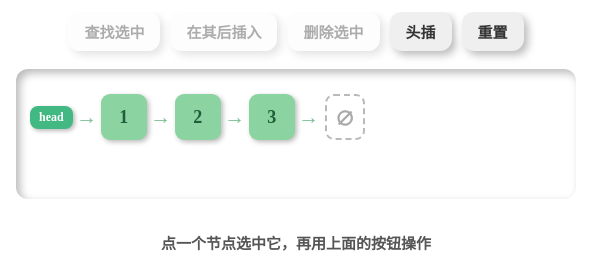
Test: LinkViz › TC-VIZ-LINKVIZ-03 insertAfter 增节点、新值落选中后
The width and height of the screenshot is (593, 269).
Click the button "2": (198,117) [175,94,221,140]
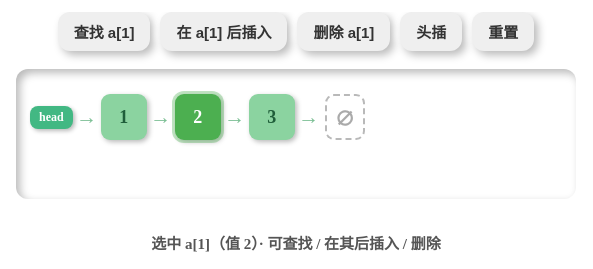
Click the button "在 a[1] 后插入": (224,32) [160,12,288,51]
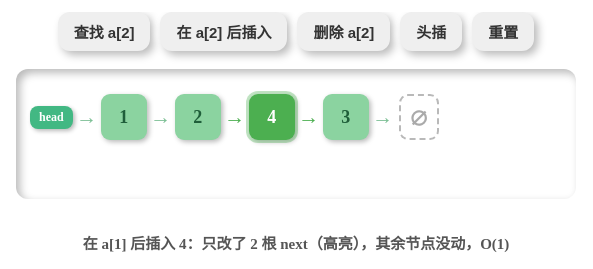
Expected: the button "4" is shown, [249,94,295,140]
